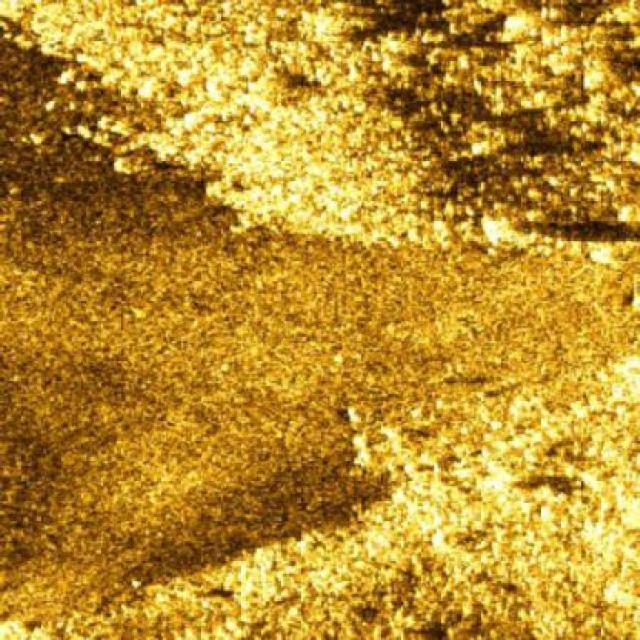bedrock group: (0, 354, 638, 640), (0, 0, 638, 271)
